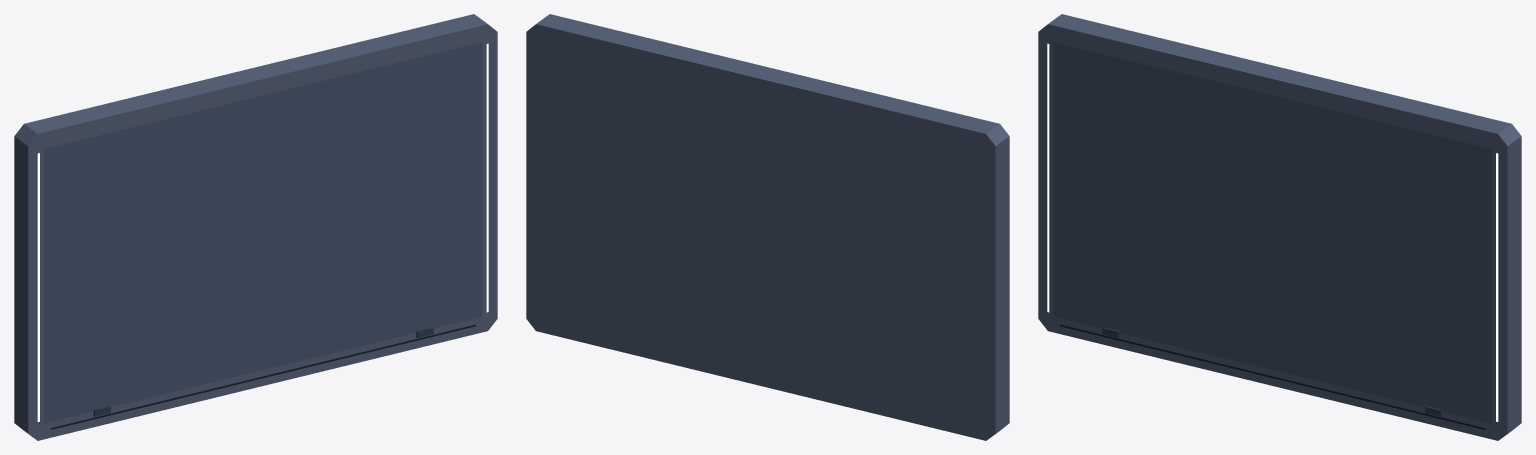
The model's file is res_oneway_mirror.glb.
3 views of the same model, side by side, from view 1: azimuth 30°, elevation 25°; view 2: azimuth 150°, elevation 25°; view 3: azimuth 330°, elevation 25° (orthographic).
Parts seen in each view (by area): view 1: smoked_silver_backing, oneway_glazing, recessed_mirror_frame, concealed_side_diffuser, lower_reveal; view 2: recessed_mirror_frame; view 3: smoked_silver_backing, oneway_glazing, recessed_mirror_frame, concealed_side_diffuser, lower_reveal.
Boxes of the visible parts, box(x1,y1,x2,y2) form: smoked_silver_backing: box(43, 42, 482, 423); oneway_glazing: box(44, 42, 481, 423); recessed_mirror_frame: box(14, 14, 497, 440); concealed_side_diffuser: box(37, 43, 488, 421); lower_reveal: box(50, 324, 475, 429); recessed_mirror_frame: box(526, 14, 1009, 440); smoked_silver_backing: box(1053, 42, 1492, 423); oneway_glazing: box(1054, 42, 1491, 423); recessed_mirror_frame: box(1038, 14, 1521, 440); concealed_side_diffuser: box(1047, 43, 1498, 421); lower_reveal: box(1060, 324, 1485, 429).
Size of the model in its own units: 3.2 by 2 by 0.18.
